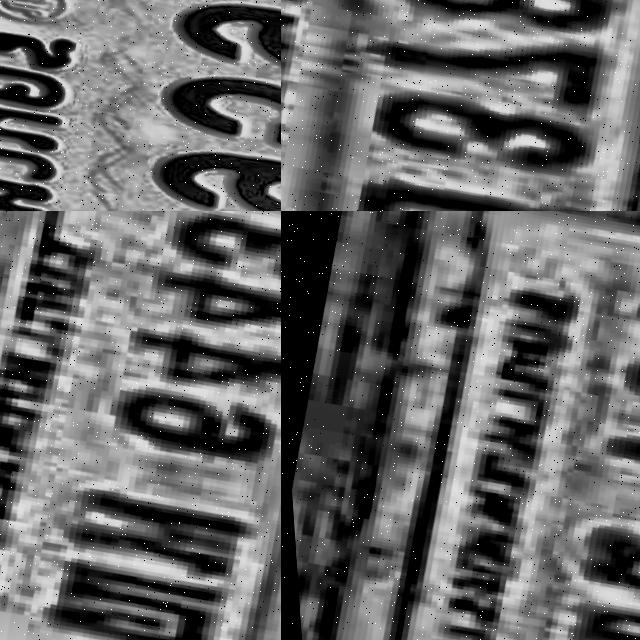license-plate: (281, 211, 640, 640), (0, 211, 281, 640), (281, 0, 640, 211), (0, 0, 281, 211)
